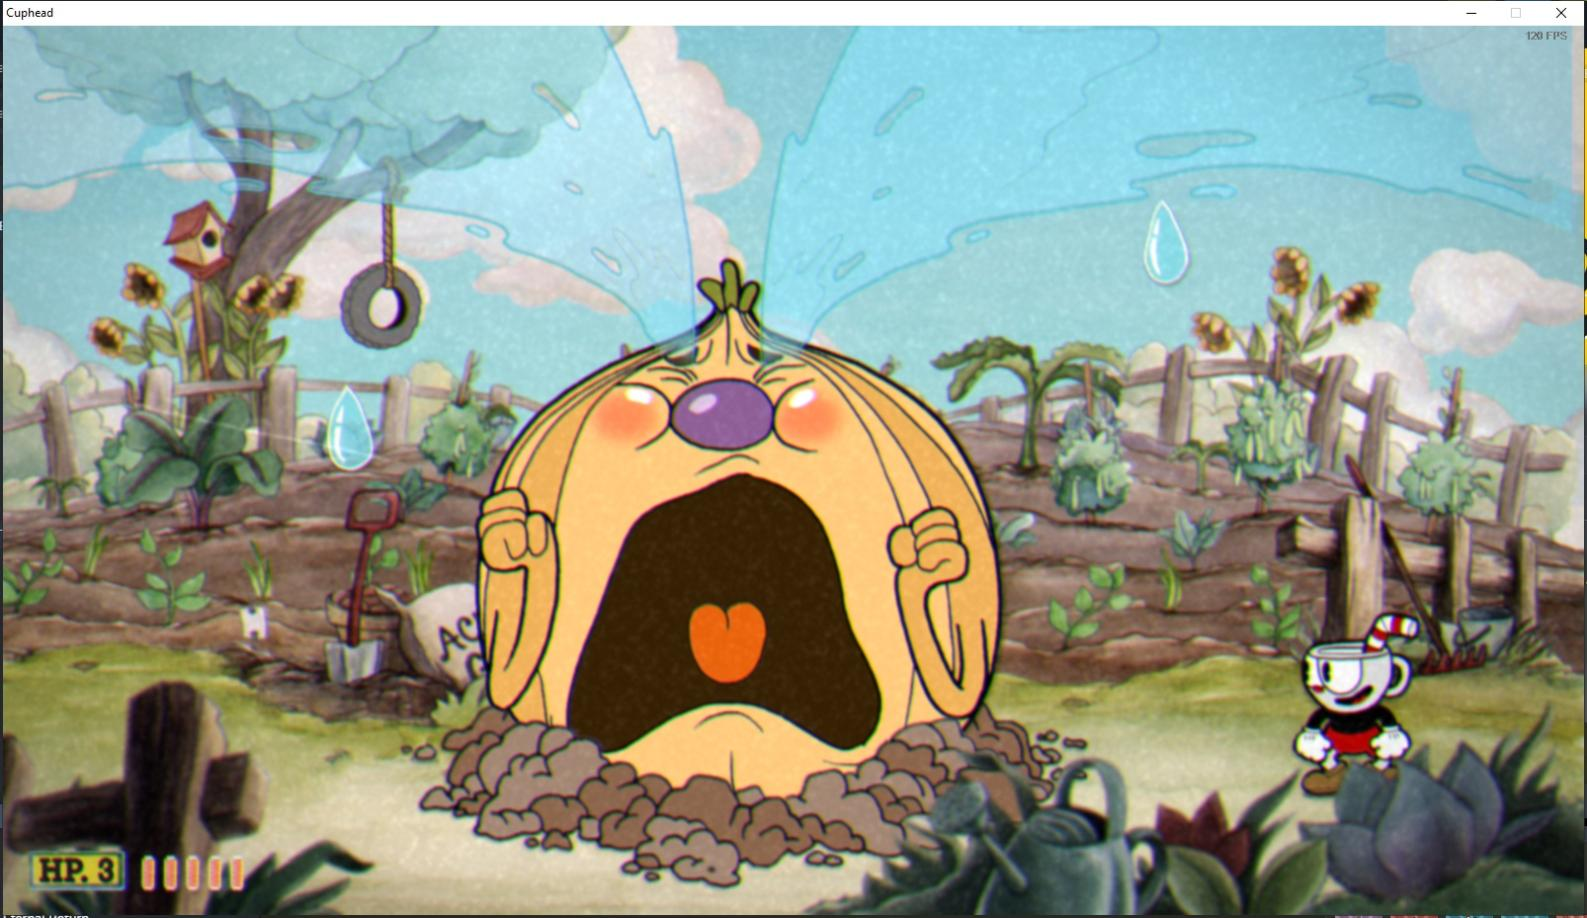hp3: (90, 852, 124, 889)
onion_boss: (476, 257, 1005, 848)
player: (1276, 610, 1426, 796)
rain: (324, 382, 376, 476), (1139, 200, 1194, 288)
